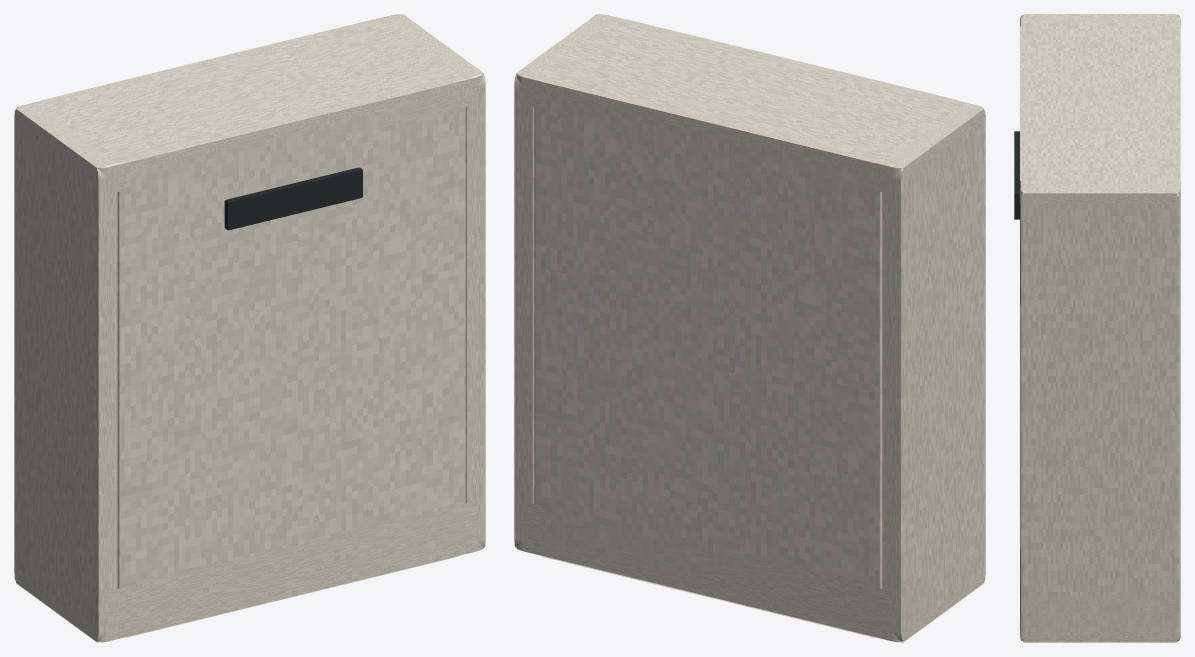
The model's file is towels.glb.
The picture shows the model from 3 angles, left to right: view 1: azimuth 30°, elevation 25°; view 2: azimuth 150°, elevation 25°; view 3: azimuth 270°, elevation 25°; orthographic projection. The views are drawn at different scales.
Parts seen in each view (by area): view 1: edge (×2), side (×2), lid, bottom, grip; view 2: edge (×2), side (×2), lid, bottom; view 3: side (×2), lid, bottom, edge (×2), grip.
Boxes of the visible parts, bbox=[...] form: edge (×2): bbox=[41, 19, 466, 637]; side (×2): bbox=[14, 14, 485, 642]; lid: bbox=[16, 14, 483, 194]; bottom: bbox=[16, 501, 483, 642]; grip: bbox=[224, 167, 362, 230]; edge (×2): bbox=[533, 19, 958, 637]; side (×2): bbox=[514, 14, 985, 642]; lid: bbox=[516, 14, 983, 194]; bottom: bbox=[516, 501, 983, 642]; side (×2): bbox=[1020, 14, 1180, 642]; lid: bbox=[1020, 15, 1180, 219]; bottom: bbox=[1020, 595, 1180, 641]; edge (×2): bbox=[1020, 26, 1180, 180]; grip: bbox=[1014, 131, 1019, 219].
Bounding box in the file's own units: 0.29 × 0.34 × 0.1139.
Materials: 2 (2 with a texture image).
